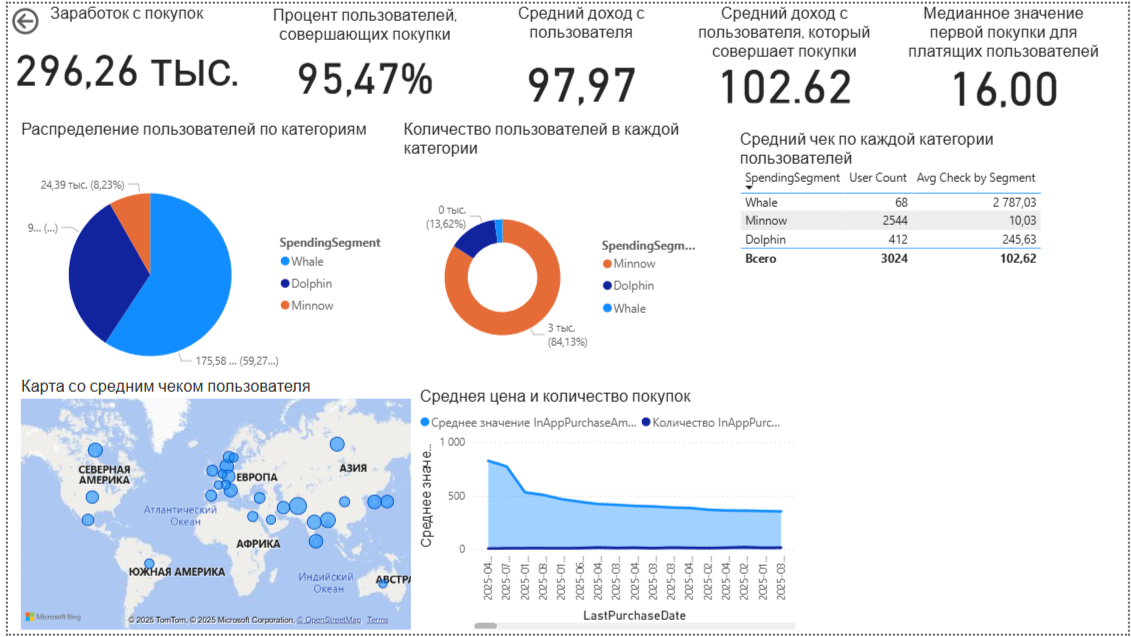

Layout of this report page (visuals, bound fields, positions):
{"tool":"powerbi","page":{"name":"Общая статистика","canvas":[1280,720],"ordinal":0},"visuals":[{"type":"card","title":"Заработок с покупок","fields":{"Values":["Sum(mobile_game_inapp_purchases.InAppPurchaseAmount)"]},"box":[0,0,271.7,121.7],"z":0},{"type":"card","title":"Процент пользователей, совершающих покупки","fields":{"Values":["mobile_game_inapp_purchases.Paying Users %"]},"box":[271.7,3.3,273.3,115],"z":2000},{"type":"card","title":"Средний доход с пользователя","fields":{"Values":["mobile_game_inapp_purchases.Avg. Revenue Per User"]},"box":[558.3,0,193.3,133.3],"z":3000},{"type":"card","title":"Средний доход с пользователя, который совершает покупки","fields":{"Values":["mobile_game_inapp_purchases.Avg. Revenue Per Paying User"]},"box":[775,0,223.3,118.3],"z":4000},{"type":"pieChart","title":"Распределение пользователей по категориям","fields":{"Category":["mobile_game_inapp_purchases.SpendingSegment"],"Y":["mobile_game_inapp_purchases.Total Revenue by Segment"]},"box":[10,133.3,436.7,335],"z":5000},{"type":"donutChart","title":"Количество пользователей в каждой категории","fields":{"Category":["mobile_game_inapp_purchases.SpendingSegment"],"Y":["mobile_game_inapp_purchases.User Count"]},"box":[446.7,133.3,346.7,321.7],"z":6000},{"type":"tableEx","title":"Средний чек по каждой категории пользователей","fields":{"Values":["mobile_game_inapp_purchases.SpendingSegment","mobile_game_inapp_purchases.User Count","mobile_game_inapp_purchases.Avg Check by Segment"]},"box":[831.2,144.8,370.4,264.2],"z":7000},{"type":"areaChart","title":"Среднея цена и количество покупок ","fields":{"Category":["mobile_game_inapp_purchases.LastPurchaseDate"],"Y":["Avg(mobile_game_inapp_purchases.InAppPurchaseAmount)","CountNonNull(mobile_game_inapp_purchases.InAppPurchaseAmount)1"]},"box":[465,438.3,440,281.7],"z":8000},{"type":"card","title":"Медианное значение первой покупки для платящих пользователей","fields":{"Values":["Median(mobile_game_inapp_purchases.FirstPurchaseDaysAfterInstall)"]},"box":[1016.7,0,241.7,123.3],"z":9000},{"type":"map","title":"Карта со средним чеком пользователя","fields":{"Category":["mobile_game_inapp_purchases.Country"],"Size":["mobile_game_inapp_purchases.Avg Revenue per Country"]},"box":[10,426.7,455,293.3],"z":10000},{"type":"actionButton","box":[0,0,100,40],"z":11000}]}

Visuals, with their boxes in screenshot pixels (x1, y1, x2, y2), scaled from the page's 1280x720 canvas onto the 1131x637 screenshot:
"Заработок с покупок" card: detection(0, 0, 240, 108)
"Процент пользователей, совершающих покупки" card: detection(240, 3, 482, 105)
"Средний доход с пользователя" card: detection(493, 0, 664, 118)
"Средний доход с пользователя, который совершает покупки" card: detection(685, 0, 882, 105)
"Распределение пользователей по категориям" pieChart: detection(9, 118, 395, 414)
"Количество пользователей в каждой категории" donutChart: detection(395, 118, 701, 403)
"Средний чек по каждой категории пользователей" tableEx: detection(734, 128, 1062, 362)
"Среднея цена и количество покупок " areaChart: detection(411, 388, 800, 636)
"Медианное значение первой покупки для платящих пользователей" card: detection(898, 0, 1112, 109)
"Карта со средним чеком пользователя" map: detection(9, 378, 411, 636)
actionButton: detection(0, 0, 88, 35)
